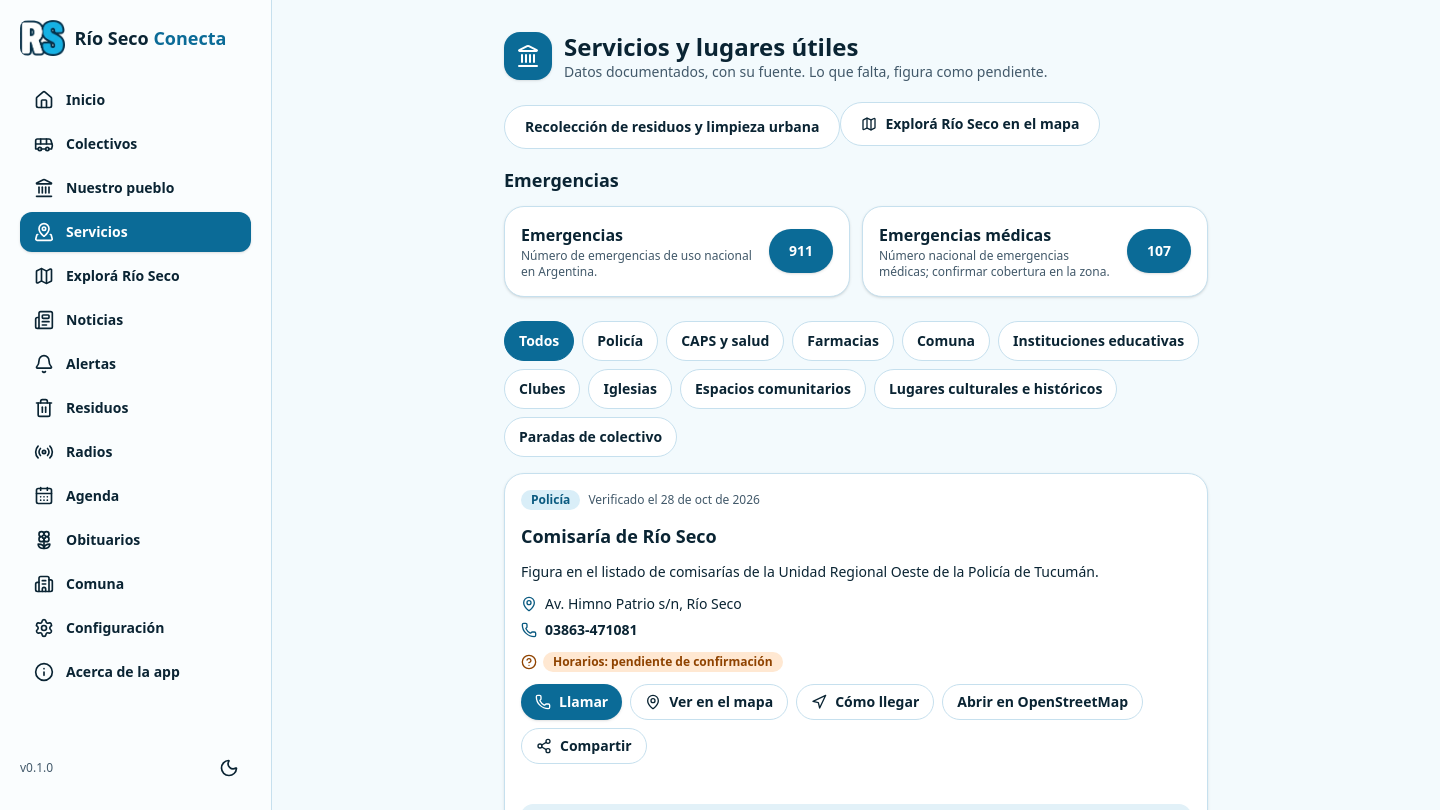
Test case: Servicios y lugares útiles › las categorías sin fichas muestran un estado vacío honesto
Check: the link "Comisaría de Río Seco" is shown, box x1=521 y1=524 x2=717 y2=548
What coordinates should you click on to do the following:
click the button "Paradas de colectivo"
I would click on:
 (591, 437)
Its box is x1=504 y1=417 x2=677 y2=457.
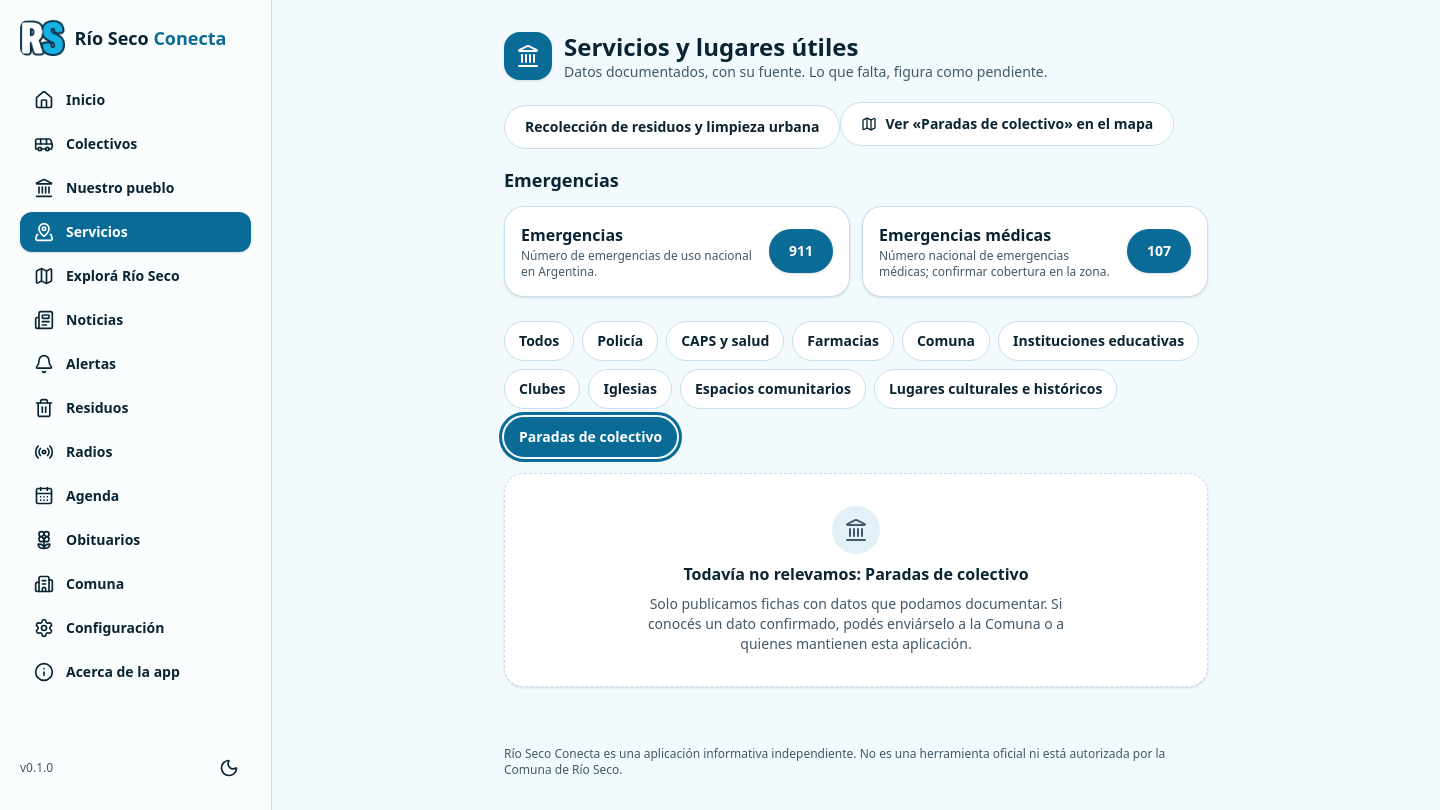
Check: the text "Todavía no relevamos: Paradas de colectivo" is shown, box x1=683 y1=562 x2=1029 y2=586
Check: the link "Comisaría de Río Seco" is gone
